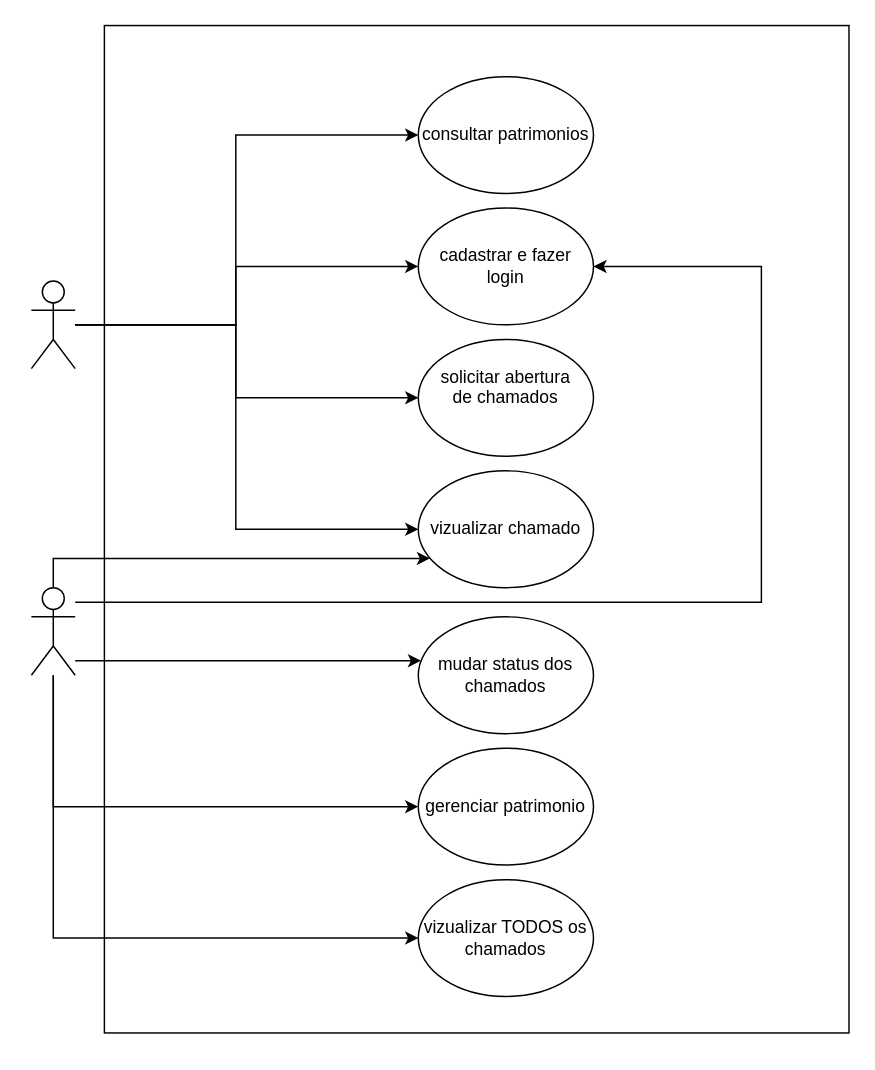
The diagram is 875 pixels wide and 1070 high, and some of its shapes have lost their labels. The box of each missing label's shape, as (x1, y1, x2, y2) in pixels:
tecnico: (30, 586, 75, 675)
usuario: (30, 280, 75, 369)
